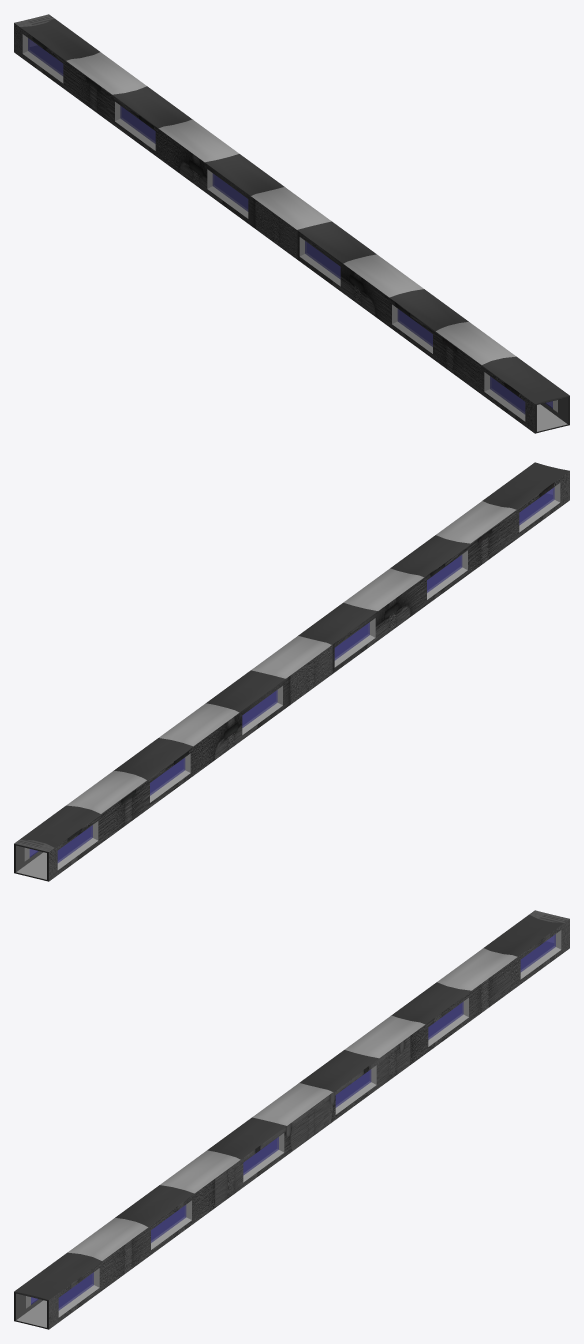
The model's file is Corridor-small-width.obj.
3 renders of one model, top to bottom at view 1: azimuth 30°, elevation 25°; view 2: azimuth 150°, elevation 25°; view 3: azimuth 330°, elevation 25°, orthographic.
Parts seen in each view (by area): view 1: Corridor_small_width; view 2: Corridor_small_width; view 3: Corridor_small_width.
Part boxes in pixels (x1,y1,x2,y2): Corridor_small_width: [14, 14, 569, 433]; Corridor_small_width: [14, 462, 569, 881]; Corridor_small_width: [14, 910, 569, 1329].
Bounding box in the file's own units: 0.3822 × 0.3682 × 9.86.
